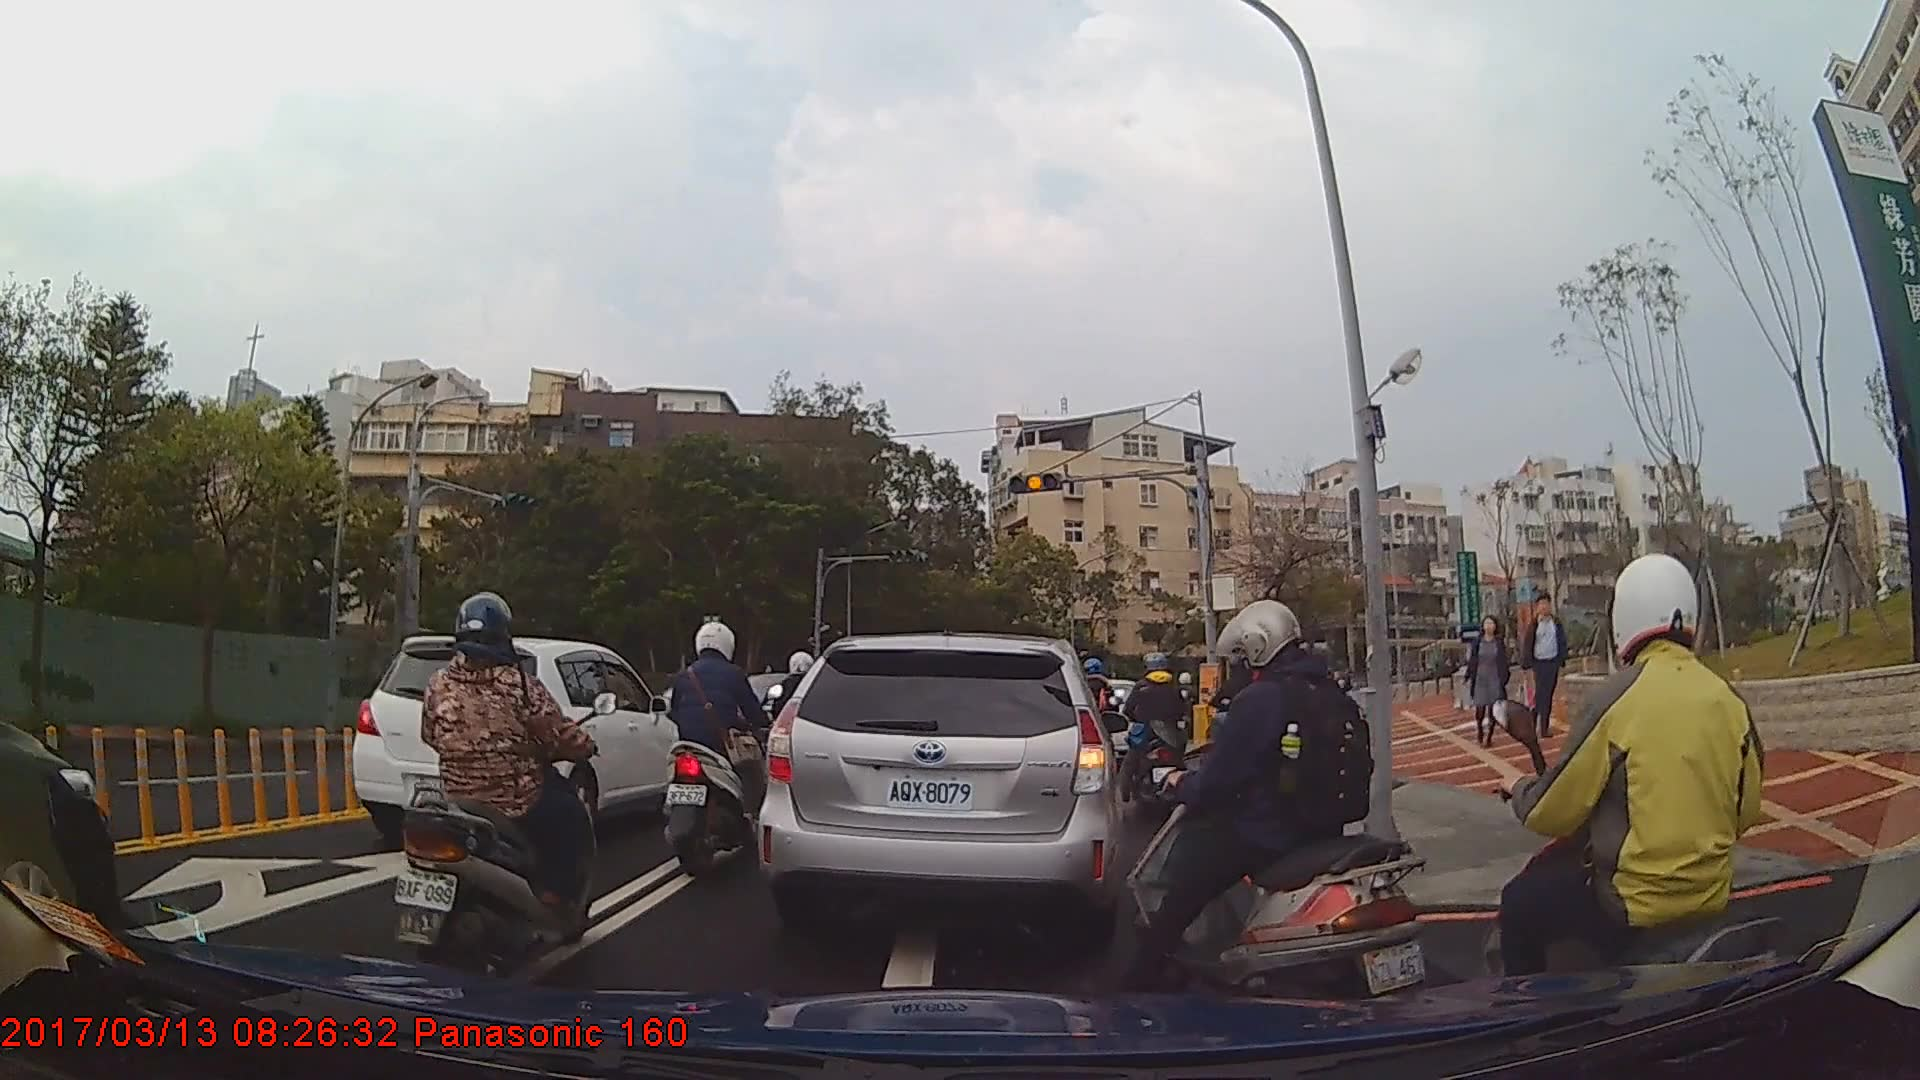pedestrian: (1526, 595, 1575, 746), (1461, 615, 1511, 749)
rider: (1490, 550, 1786, 1063), (1123, 601, 1436, 1015), (389, 591, 605, 986), (663, 619, 785, 877), (1114, 648, 1204, 833)
vehicle: (757, 631, 1121, 941), (351, 635, 690, 852)
